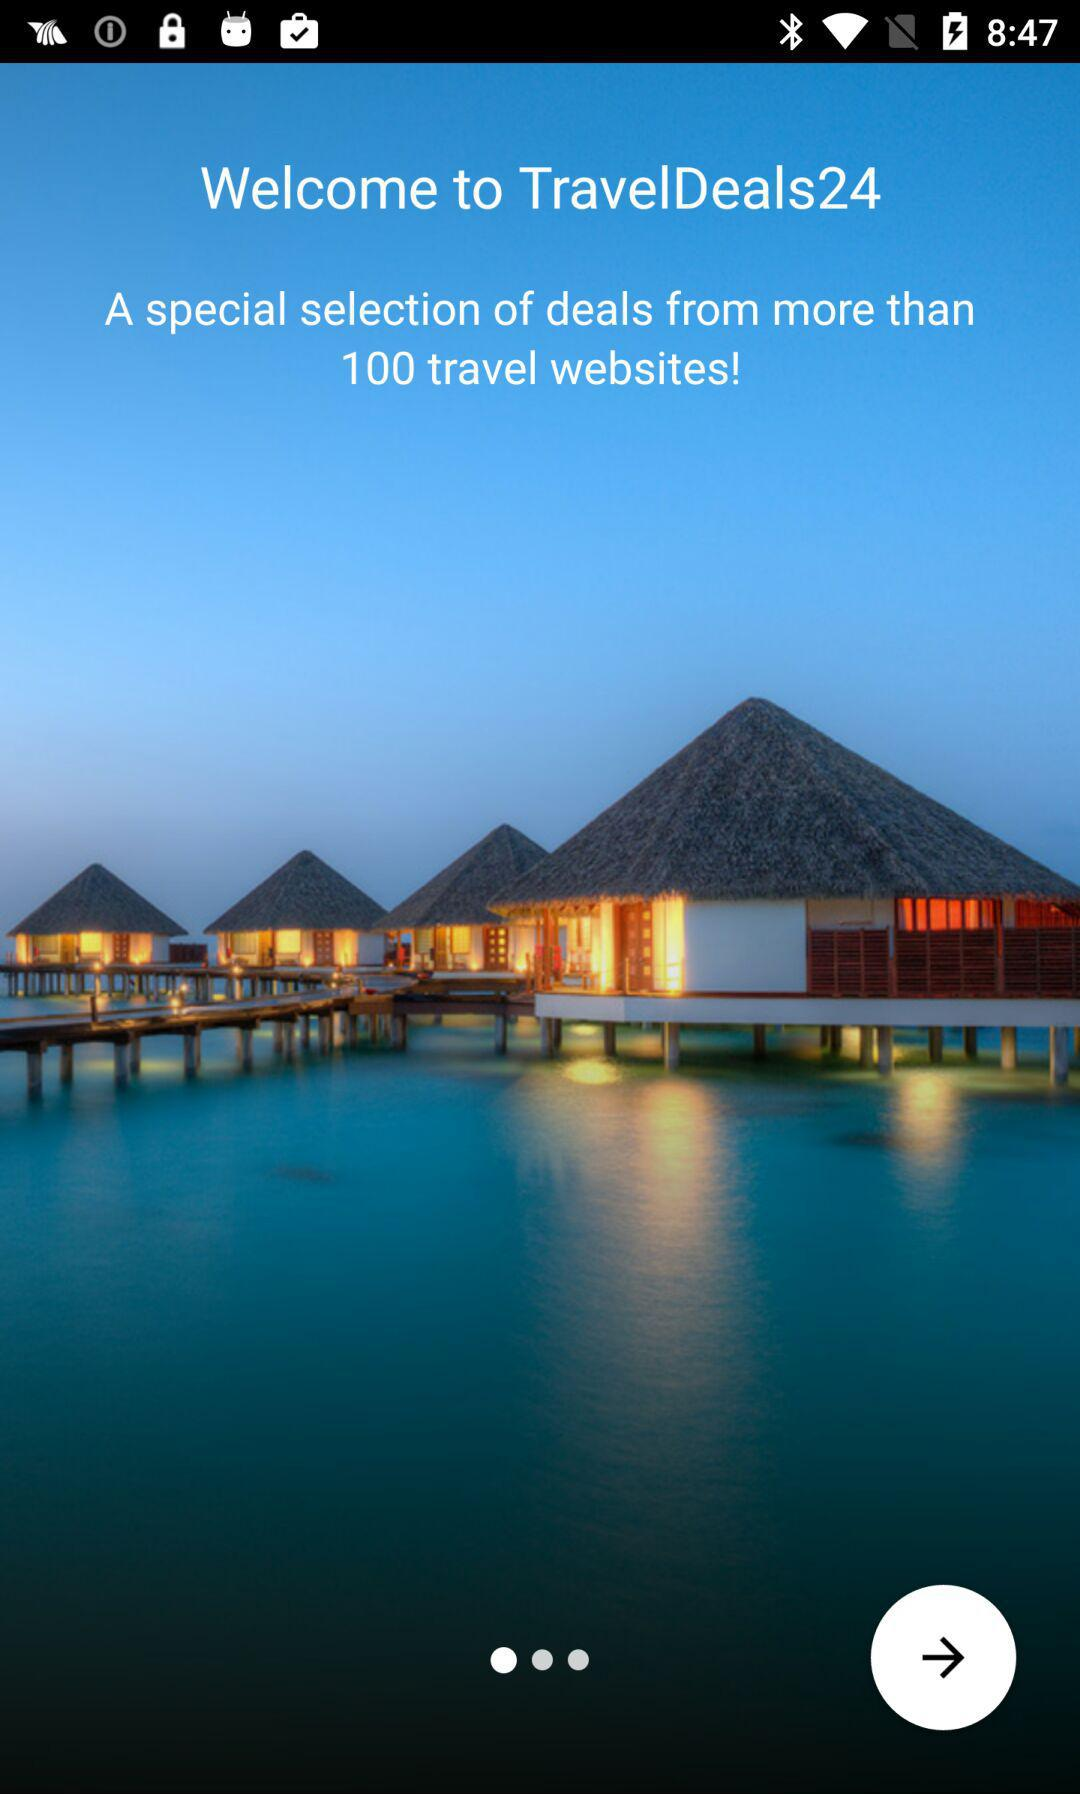BackgroundImage: (1, 64, 1080, 1794)
Icon: (870, 1584, 1017, 1731)
PageIndicator: (489, 1647, 591, 1675)
Text: (105, 290, 974, 387), (201, 164, 881, 211)
UpperTaskBar: (1, 1, 1080, 64)
